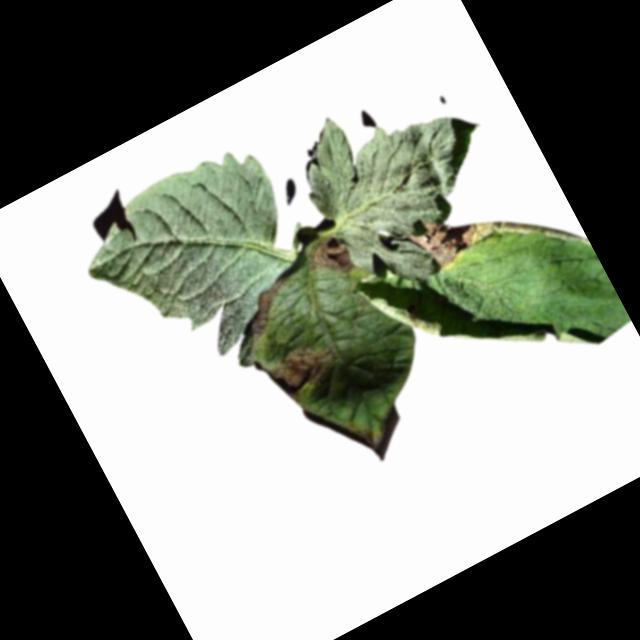Late_blight: (401, 189, 504, 279), (260, 334, 343, 406), (239, 281, 298, 337), (302, 231, 357, 287), (342, 408, 393, 457)
